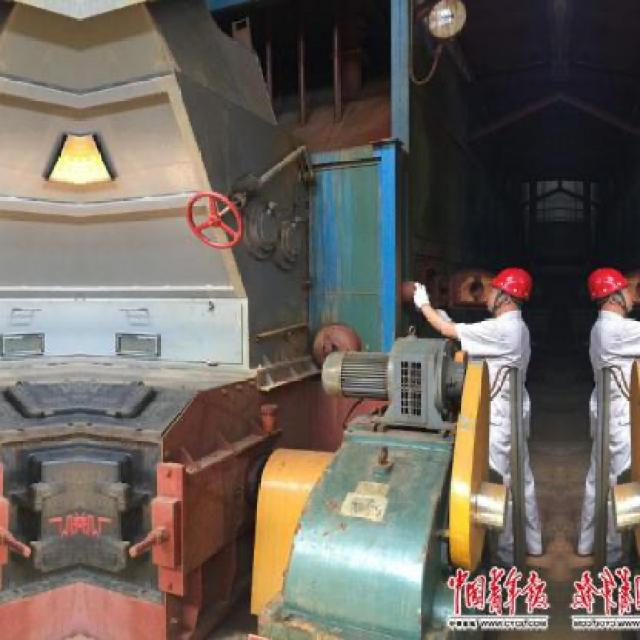helmet: (483, 266, 537, 317), (584, 266, 638, 317)
